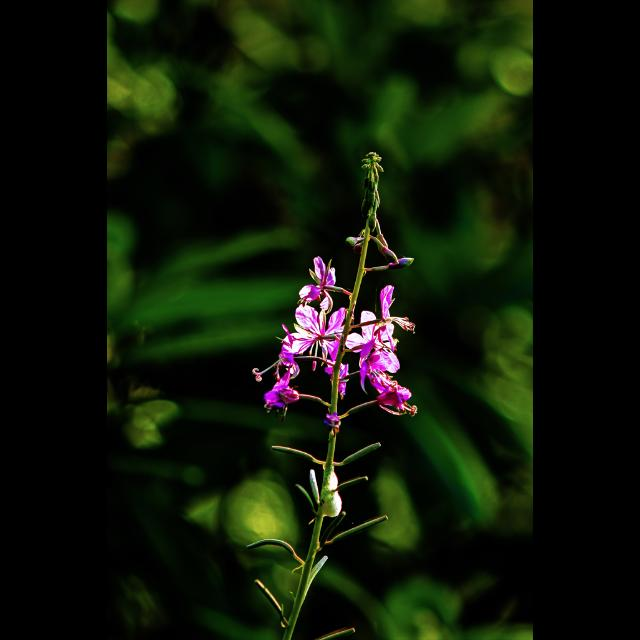Flower: (252, 254, 416, 428), (285, 304, 335, 364)
